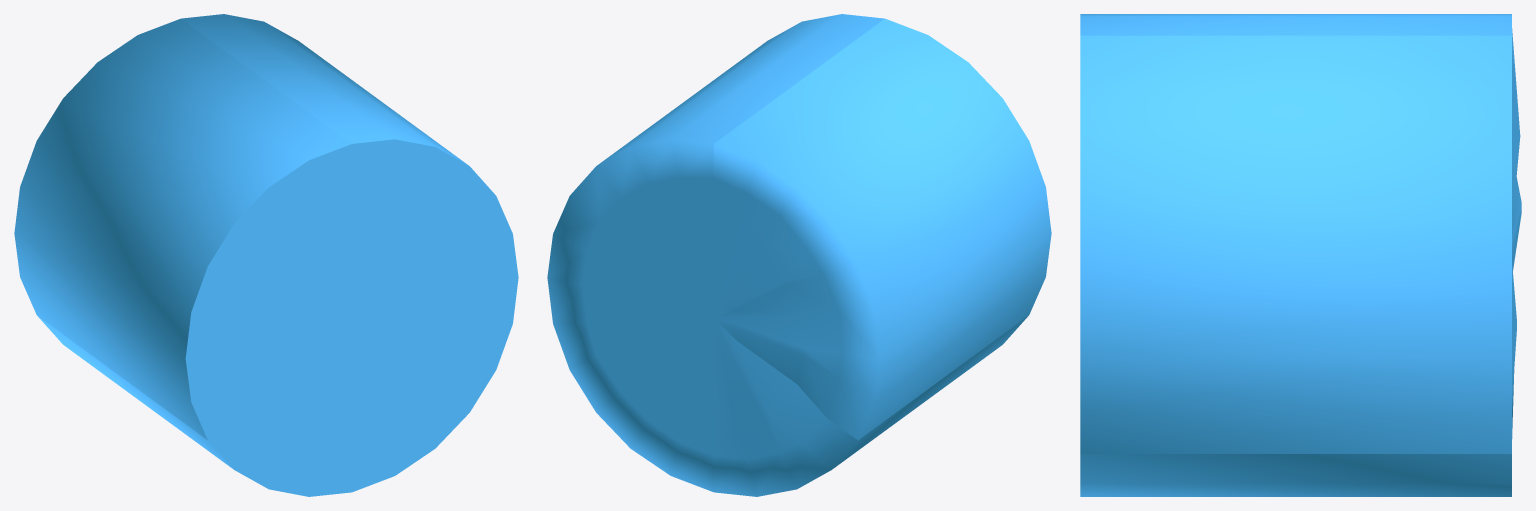
The model's file is IceCube.fbx.
3 views of the same model, side by side, from view 1: azimuth 30°, elevation 25°; view 2: azimuth 150°, elevation 25°; view 3: azimuth 270°, elevation 25° (orthographic). The views are drawn at different scales.
Visible parts, largest first — view 1: Ice; view 2: Ice; view 3: Ice.
Boxes of the visible parts, x1,y1,x2,y2 form: Ice: [14, 14, 518, 496]; Ice: [547, 14, 1051, 496]; Ice: [1080, 14, 1521, 496].
Size of the model in its own units: 1.12 by 1.12 by 1.02.
